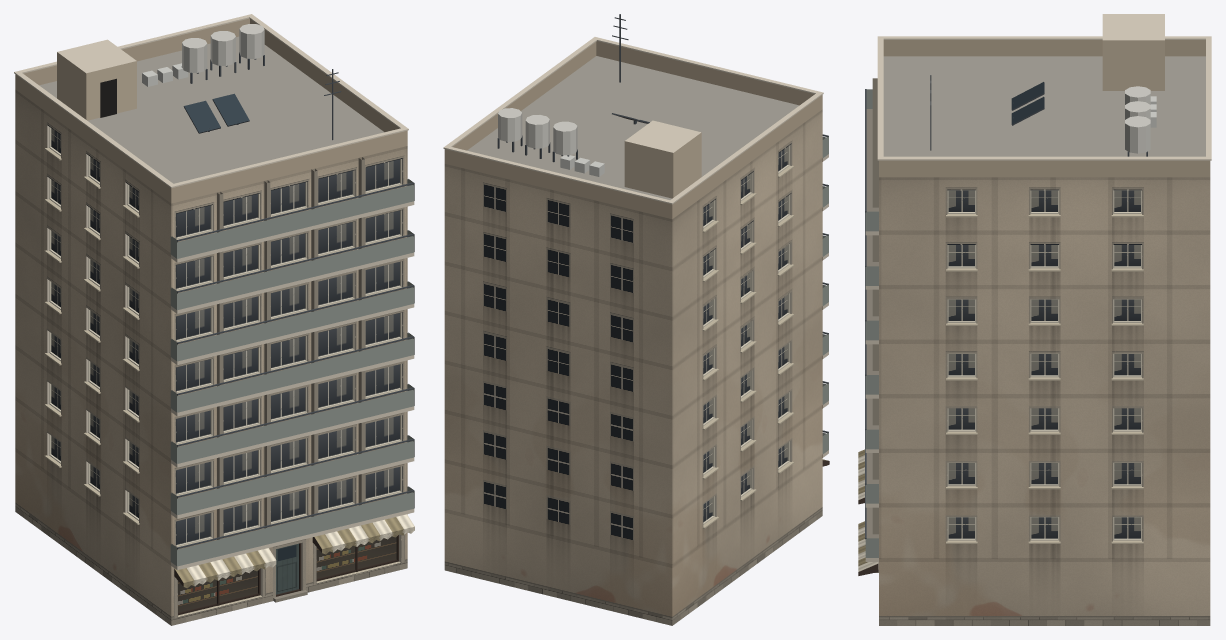
Rendered from hero_res_late_b.glb.
The picture shows the model from 3 angles, left to right: view 1: azimuth 30°, elevation 25°; view 2: azimuth 150°, elevation 25°; view 3: azimuth 270°, elevation 25°; orthographic projection. The views are drawn at different scales.
Visible parts, largest first — view 1: bld_hero_res_late_b; view 2: bld_hero_res_late_b; view 3: bld_hero_res_late_b.
Boxes of the visible parts, x1=… form: bld_hero_res_late_b: x1=14, y1=14, x2=414, y2=625; bld_hero_res_late_b: x1=443, y1=14, x2=829, y2=625; bld_hero_res_late_b: x1=858, y1=14, x2=1211, y2=625.
Size of the model in its own units: 14.24 by 27.93 by 17.06.
Materials: 1 (1 with a texture image).
